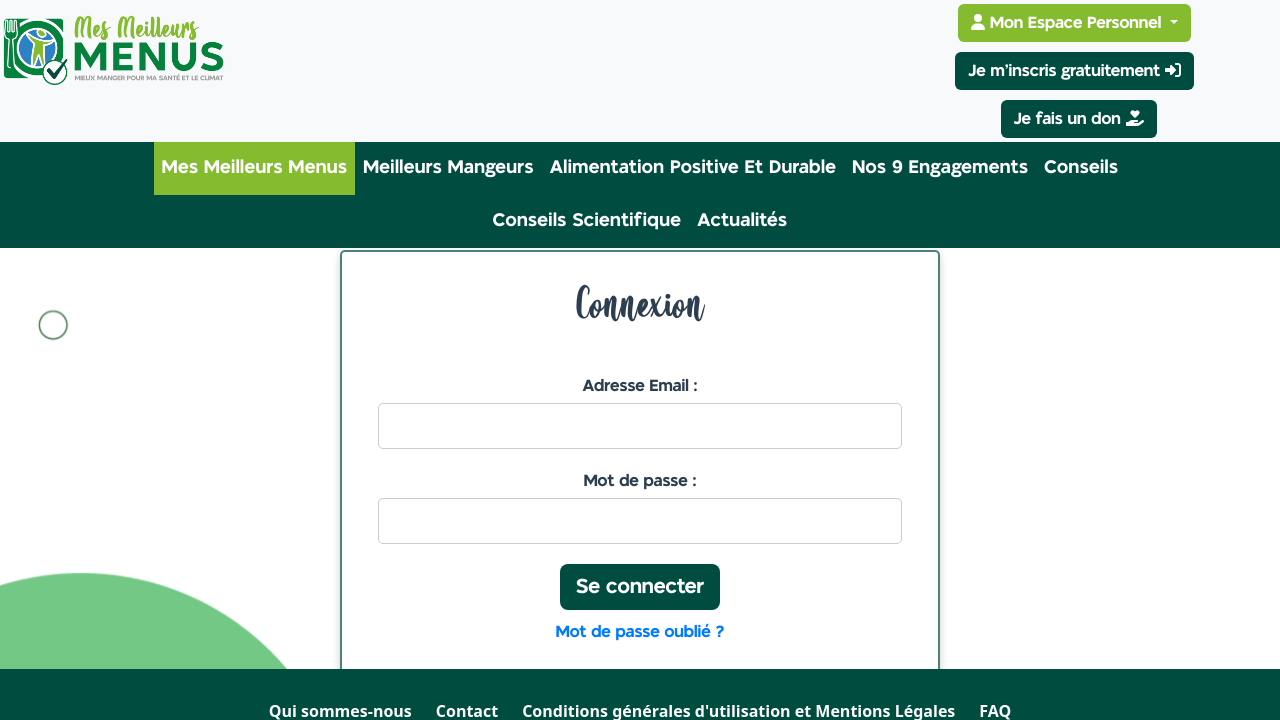
it: Modal Interaction Tests › should open the forget password modal
Expected: the form is shown, [358, 354, 922, 664]
Step 1. Click the link "Mot de passe oublié ?" → (641,632), box [556, 624, 725, 640]
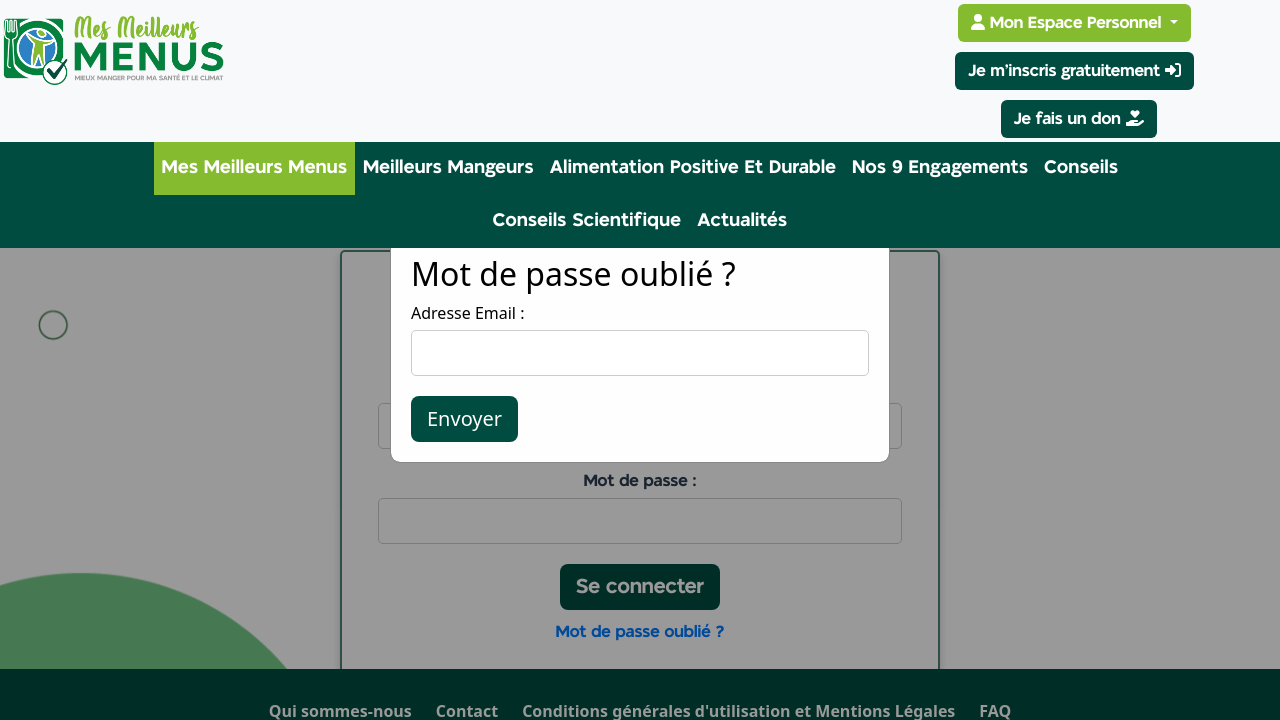
Now the element with class "modal" is shown
Now the heading "Mot de passe oublié ?" is shown, box [411, 252, 736, 295]
